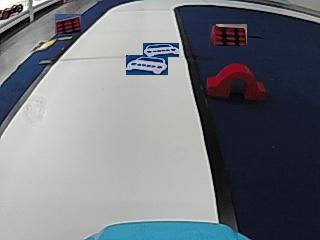bridge: (207, 63, 265, 99)
